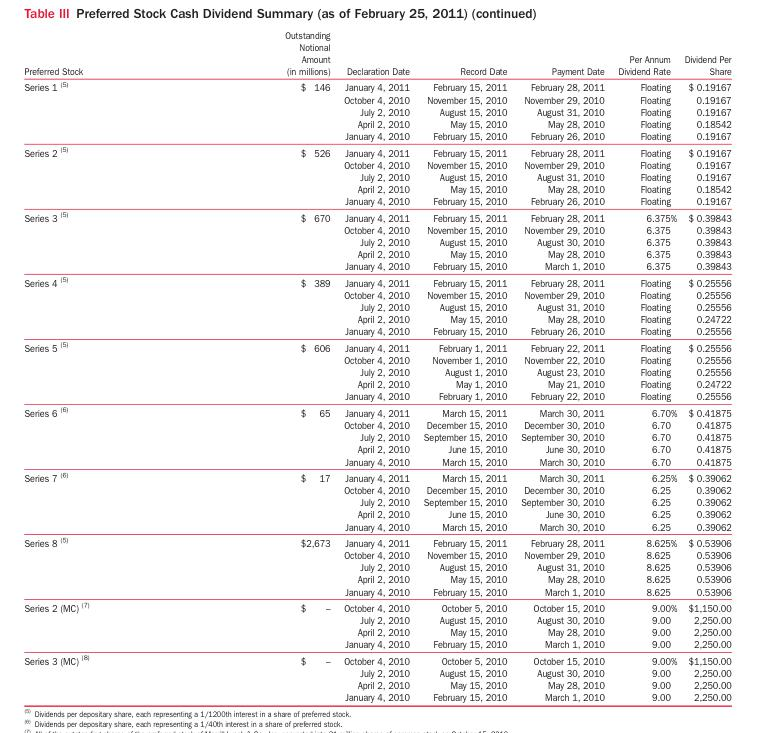table: (23, 28, 730, 702)
table column: (23, 28, 186, 702), (186, 28, 336, 702), (415, 28, 513, 702), (513, 28, 610, 702), (336, 28, 415, 702), (610, 28, 679, 702), (679, 28, 730, 702)
table column header: (23, 28, 730, 77)
table row: (23, 28, 730, 77), (23, 77, 730, 92), (23, 208, 730, 223), (23, 273, 730, 288), (23, 338, 730, 353), (23, 403, 730, 418), (23, 468, 730, 483), (23, 533, 730, 548), (23, 598, 730, 613), (23, 651, 730, 666), (23, 129, 730, 143), (23, 143, 730, 157), (23, 194, 730, 208), (23, 259, 730, 273), (23, 324, 730, 338), (23, 389, 730, 403), (23, 454, 730, 468), (23, 519, 730, 533), (23, 584, 730, 598), (23, 637, 730, 651), (23, 92, 730, 105), (23, 157, 730, 170), (23, 105, 730, 117), (23, 117, 730, 129), (23, 170, 730, 182), (23, 182, 730, 194), (23, 223, 730, 235), (23, 235, 730, 247), (23, 247, 730, 259), (23, 288, 730, 300), (23, 300, 730, 312), (23, 312, 730, 324), (23, 353, 730, 365), (23, 365, 730, 377), (23, 377, 730, 389), (23, 418, 730, 430), (23, 430, 730, 442), (23, 442, 730, 454), (23, 483, 730, 495), (23, 495, 730, 507), (23, 507, 730, 519), (23, 548, 730, 560), (23, 560, 730, 572), (23, 572, 730, 584), (23, 613, 730, 625), (23, 625, 730, 637), (23, 666, 730, 678), (23, 678, 730, 690), (23, 690, 730, 702)
